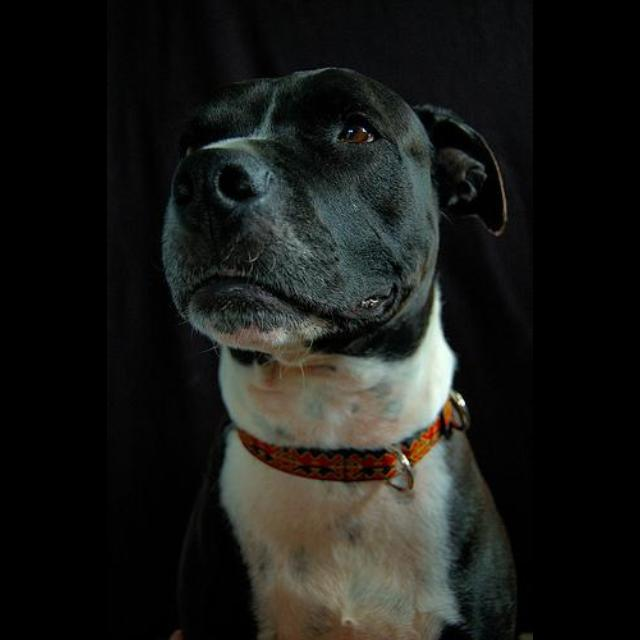amstaff: (161, 65, 520, 639)
